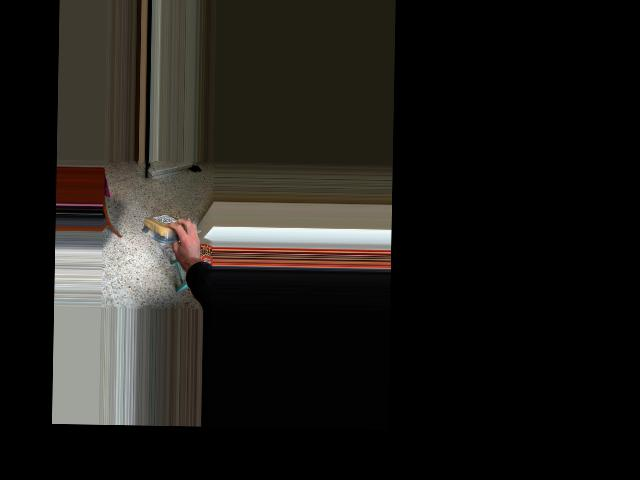cheese: (140, 211, 193, 245)
